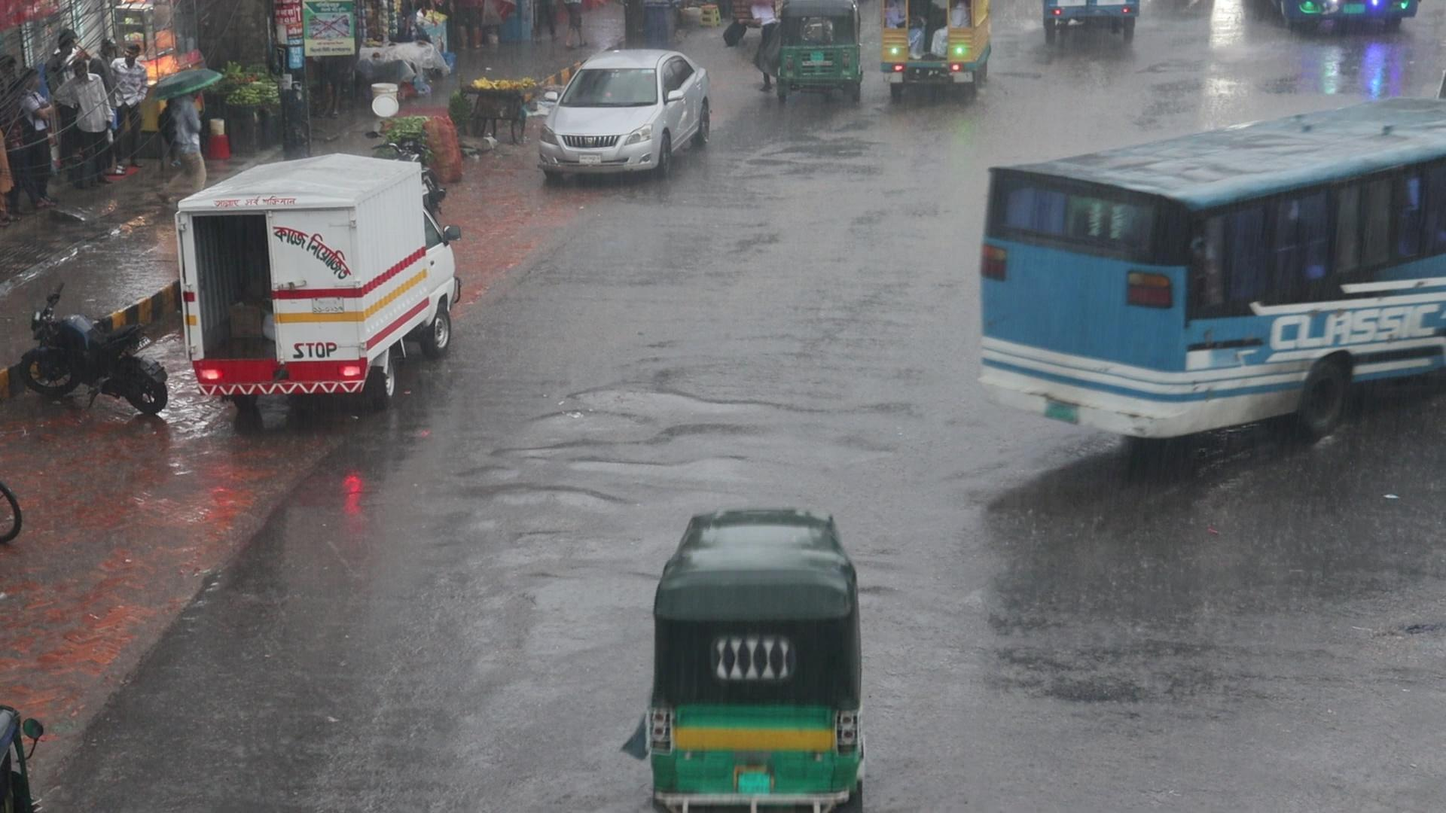Bus: (975, 96, 1446, 451)
Truck: (877, 0, 993, 98)
